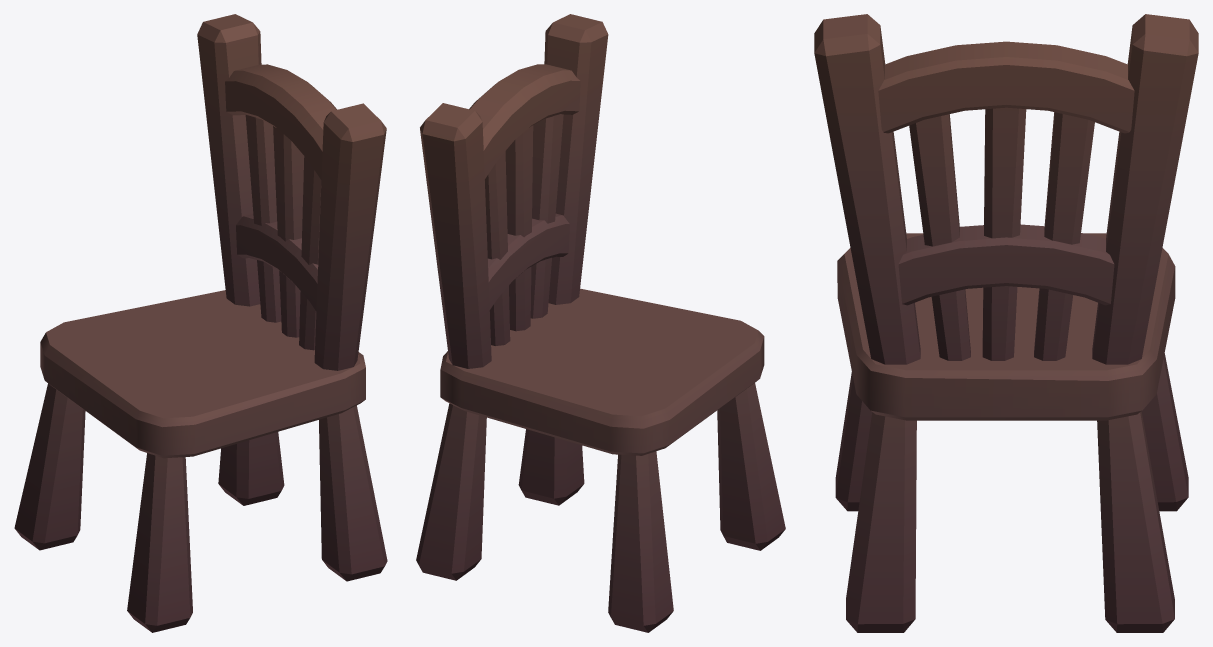
Rendered from SM_Chair.fbx.
3 renders of one model, left to right at view 1: azimuth 30°, elevation 25°; view 2: azimuth 150°, elevation 25°; view 3: azimuth 270°, elevation 25°, orthographic. The views are drawn at different scales.
Visible parts, largest first — view 1: SM_Chair; view 2: SM_Chair; view 3: SM_Chair.
Part boxes in pixels (bbox=[...]): SM_Chair: bbox=[14, 14, 387, 632]; SM_Chair: bbox=[416, 14, 785, 632]; SM_Chair: bbox=[814, 14, 1198, 632].
Size of the model in its own units: 49.89 by 90.95 by 53.61.
1 material, 1 textured.
